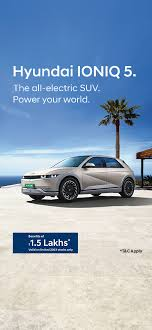Honda Ioniq: (18, 150, 140, 213)
